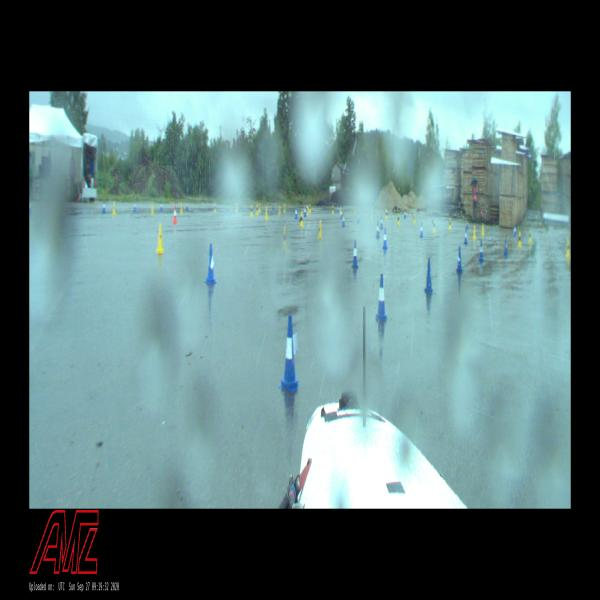blue_cone: (279, 315, 301, 391), (204, 244, 217, 284), (376, 274, 387, 321), (424, 258, 433, 292), (352, 240, 359, 269), (456, 246, 463, 272), (479, 240, 484, 261), (383, 229, 388, 249), (504, 237, 508, 255), (420, 222, 424, 238), (464, 228, 468, 244), (376, 221, 379, 238), (294, 208, 298, 219), (342, 215, 345, 227)
orange_cone: (173, 205, 178, 224)
yellow_cone: (156, 223, 164, 254), (282, 226, 287, 251), (318, 220, 322, 239), (566, 241, 570, 257), (299, 212, 303, 228), (265, 206, 269, 221), (528, 230, 532, 243), (448, 218, 452, 230), (481, 223, 485, 235), (518, 232, 521, 247), (433, 219, 436, 233), (473, 226, 476, 240), (397, 213, 400, 225)
